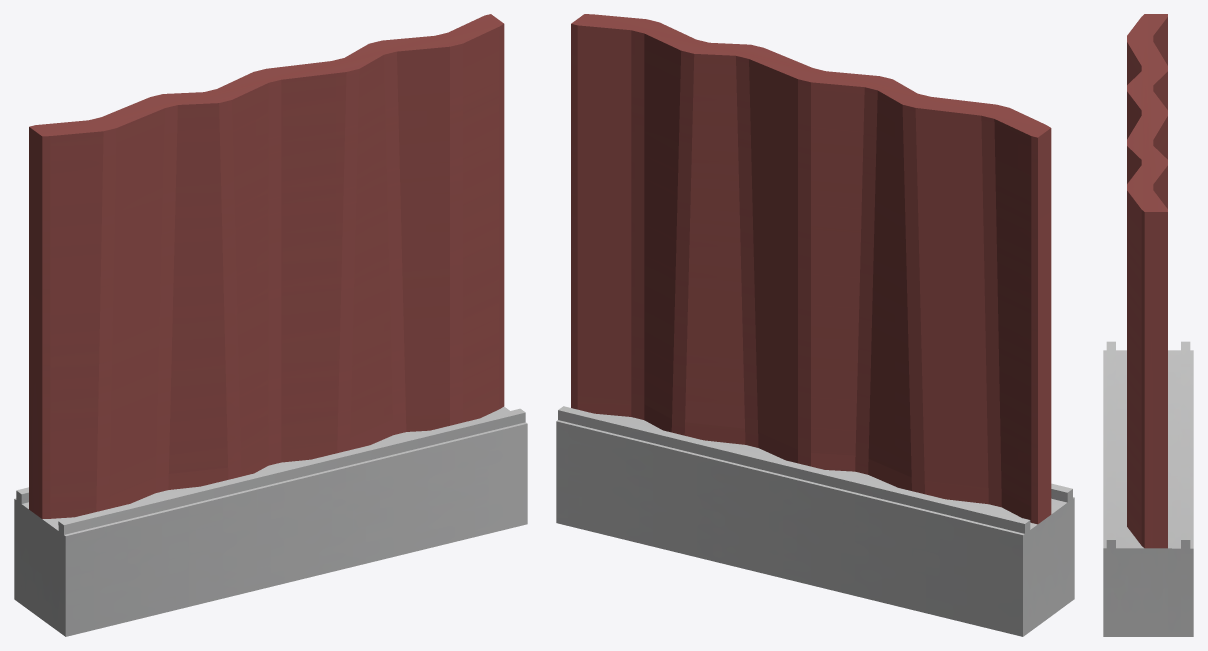
Rendered from wall_concrete_metal.glb.
The picture shows the model from 3 angles, left to right: view 1: azimuth 30°, elevation 25°; view 2: azimuth 150°, elevation 25°; view 3: azimuth 270°, elevation 25°; orthographic projection. The views are drawn at different scales.
Visible parts, largest first — view 1: wall_concrete_metal; view 2: wall_concrete_metal; view 3: wall_concrete_metal.
Boxes of the visible parts, bbox=[...] form: wall_concrete_metal: bbox=[14, 14, 527, 636]; wall_concrete_metal: bbox=[556, 14, 1074, 636]; wall_concrete_metal: bbox=[1103, 14, 1193, 636].
Size of the model in its own units: 2 by 2 by 0.3844.
Materials: 1 (1 with a texture image).
